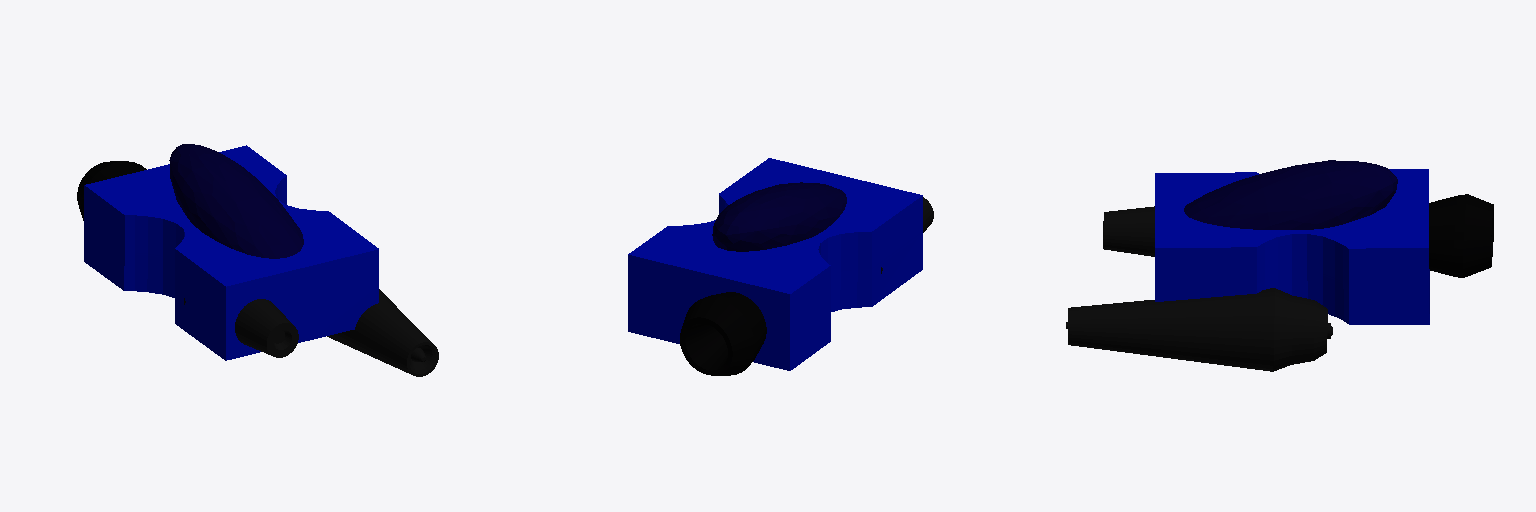
File: sacapunta2.obj
3 views of the same model, side by side, from view 1: azimuth 30°, elevation 25°; view 2: azimuth 150°, elevation 25°; view 3: azimuth 270°, elevation 25° (orthographic).
Visible parts, largest first — view 1: Plane, Icosphere, Cylinder.001, Cylinder, Plane.002; view 2: Plane, Icosphere, Plane.002; view 3: Plane, Cylinder.001, Icosphere, Plane.002, Cylinder.
Part boxes in pixels (bbox=[...]): Plane: bbox=[84, 145, 378, 360]; Icosphere: bbox=[169, 144, 303, 258]; Cylinder.001: bbox=[327, 289, 438, 376]; Cylinder: bbox=[184, 298, 298, 357]; Plane.002: bbox=[77, 161, 146, 220]; Plane: bbox=[628, 158, 922, 370]; Icosphere: bbox=[712, 182, 846, 251]; Plane.002: bbox=[680, 292, 766, 375]; Plane: bbox=[1155, 169, 1429, 324]; Cylinder.001: bbox=[1066, 288, 1332, 371]; Icosphere: bbox=[1184, 160, 1397, 229]; Plane.002: bbox=[1429, 194, 1493, 277]; Cylinder: bbox=[1103, 206, 1154, 256].
Bounding box in the file's own units: 5.93 × 4.81 × 11.34.